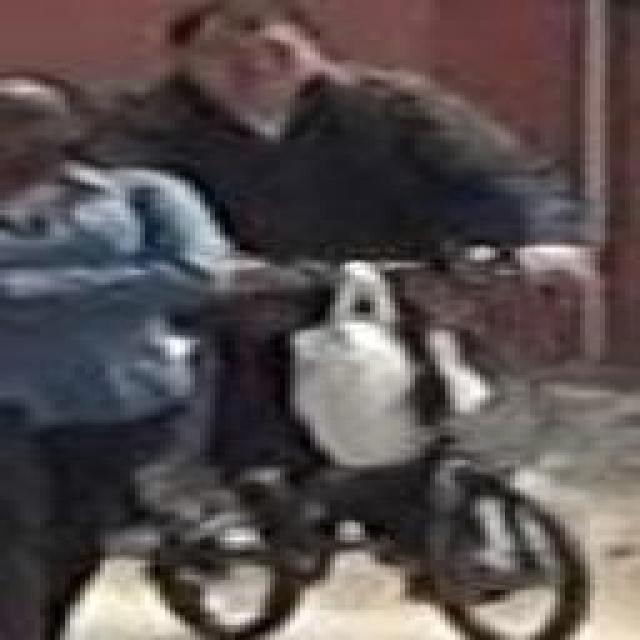adult: (108, 0, 611, 489), (0, 68, 227, 640)
